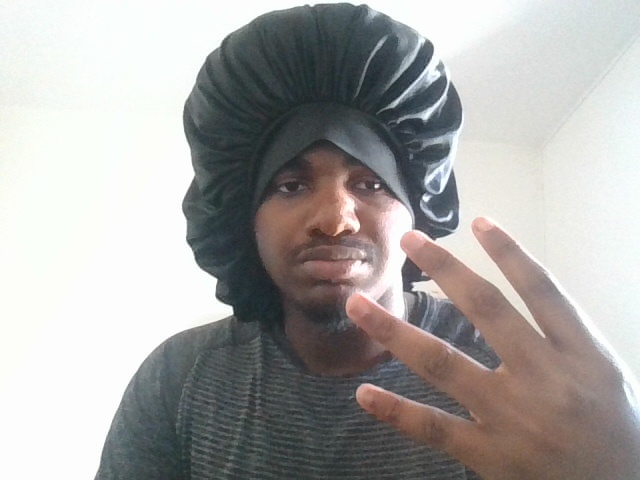I am Better Than Yu: (354, 218, 630, 456)
